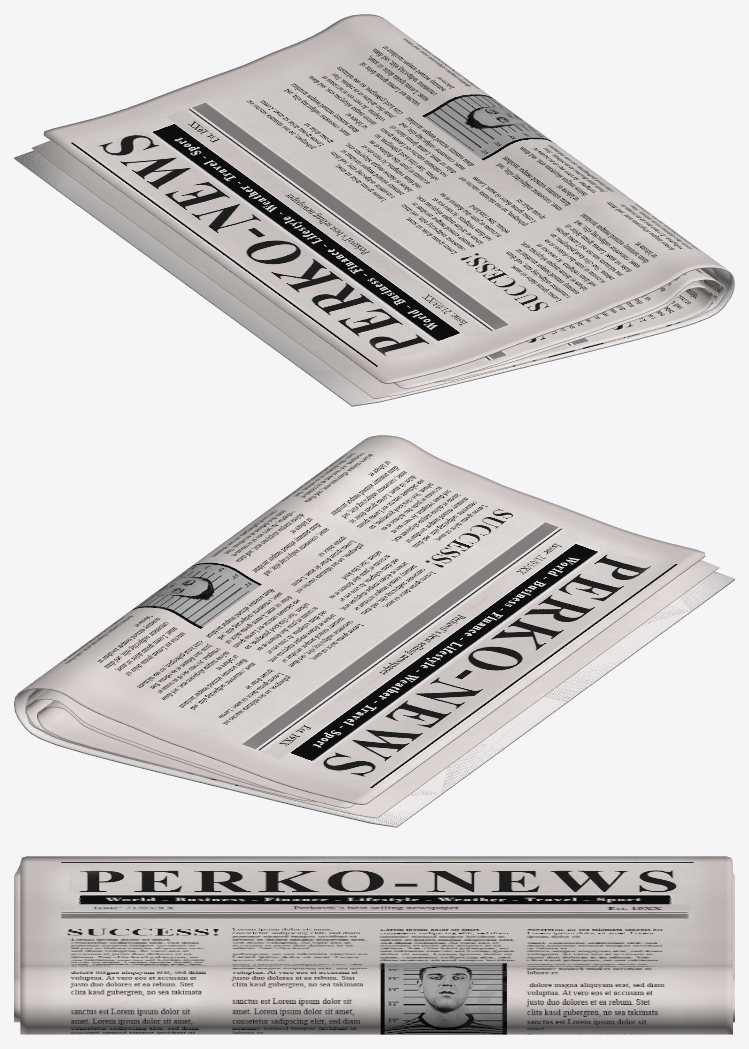
Rendered from Newspaper NEW.fbx.
3 views of the same model, one above another, from view 1: azimuth 30°, elevation 25°; view 2: azimuth 150°, elevation 25°; view 3: azimuth 270°, elevation 25° (orthographic). The views are drawn at different scales.
Parts seen in each view (by area): view 1: OuterNewspaper, 3rd Newspaper, 4thNewspaper; view 2: OuterNewspaper, 3rd Newspaper, 4thNewspaper; view 3: OuterNewspaper, 3rd Newspaper.
Boxes of the visible parts, x1,y1,x2,y2 form: OuterNewspaper: (14, 14, 734, 406); 3rd Newspaper: (31, 140, 725, 398); 4thNewspaper: (435, 281, 714, 382); OuterNewspaper: (14, 435, 734, 827); 3rd Newspaper: (25, 560, 719, 818); 4thNewspaper: (37, 700, 315, 801); OuterNewspaper: (20, 856, 732, 1034); 3rd Newspaper: (14, 864, 734, 1022).
Bounding box in the file's own units: 20.71 × 3.02 × 32.97.
